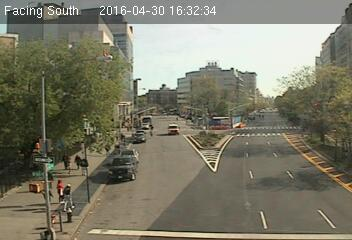neg: (250, 159, 290, 213), (18, 135, 39, 162), (73, 97, 88, 117), (45, 130, 59, 148), (114, 173, 125, 188), (138, 110, 147, 122), (193, 117, 202, 128), (111, 81, 119, 93)
